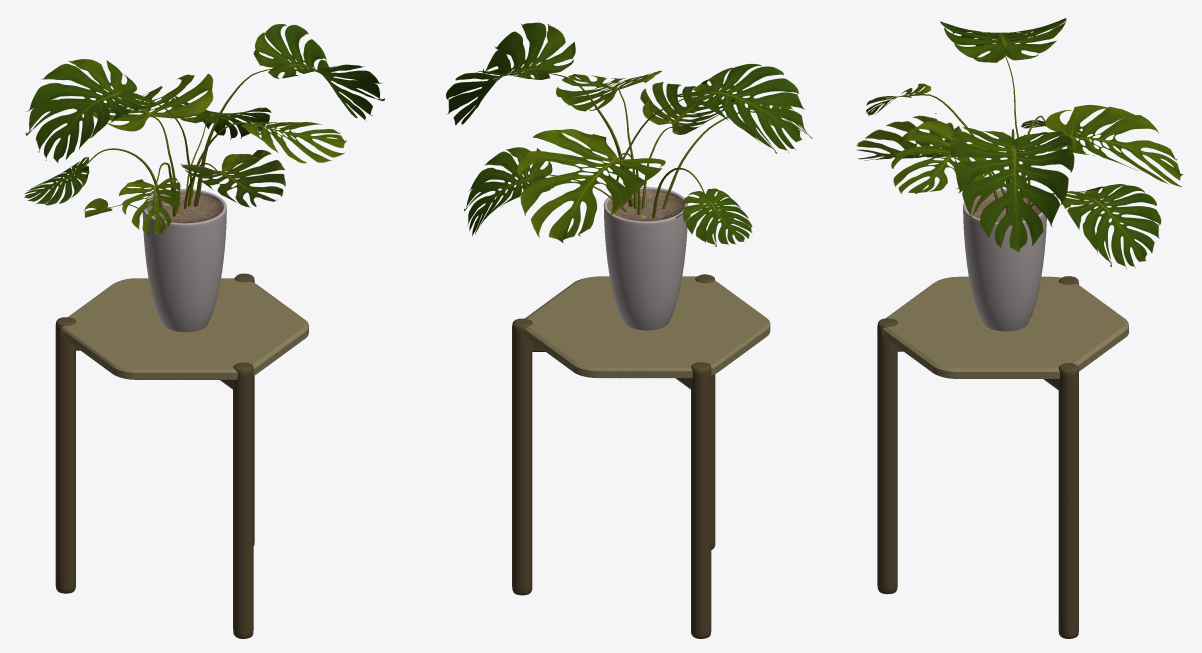
File: flower_pot-transformed.glb
The picture shows the model from 3 angles, left to right: view 1: azimuth 30°, elevation 25°; view 2: azimuth 150°, elevation 25°; view 3: azimuth 270°, elevation 25°; orthographic projection.
Parts seen in each view (by area): view 1: Object_5, Object_7, Object_11, Object_13, Object_14; view 2: Object_5, Object_7, Object_11, Object_13, Object_14; view 3: Object_5, Object_7, Object_11, Object_13.
Part boxes in pixels (x1=…): Object_5: x1=23, y1=24, x2=384, y2=235; Object_7: x1=61, y1=278, x2=308, y2=379; Object_11: x1=55, y1=273, x2=254, y2=638; Object_13: x1=142, y1=189, x2=226, y2=332; Object_14: x1=146, y1=193, x2=223, y2=223; Object_5: x1=446, y1=22, x2=812, y2=246; Object_7: x1=524, y1=276, x2=770, y2=378; Object_11: x1=512, y1=274, x2=715, y2=638; Object_13: x1=603, y1=187, x2=687, y2=330; Object_14: x1=607, y1=191, x2=684, y2=221; Object_5: x1=856, y1=18, x2=1183, y2=268; Object_7: x1=882, y1=276, x2=1128, y2=378; Object_11: x1=877, y1=276, x2=1078, y2=638; Object_13: x1=963, y1=188, x2=1046, y2=331.
Bounding box in the file's own units: 12.35 × 17.75 × 10.19.
5 materials, 2 textured.
